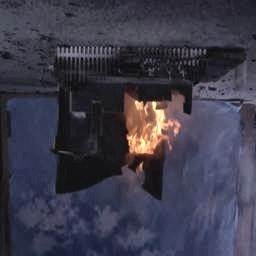fire: (125, 100, 183, 172)
